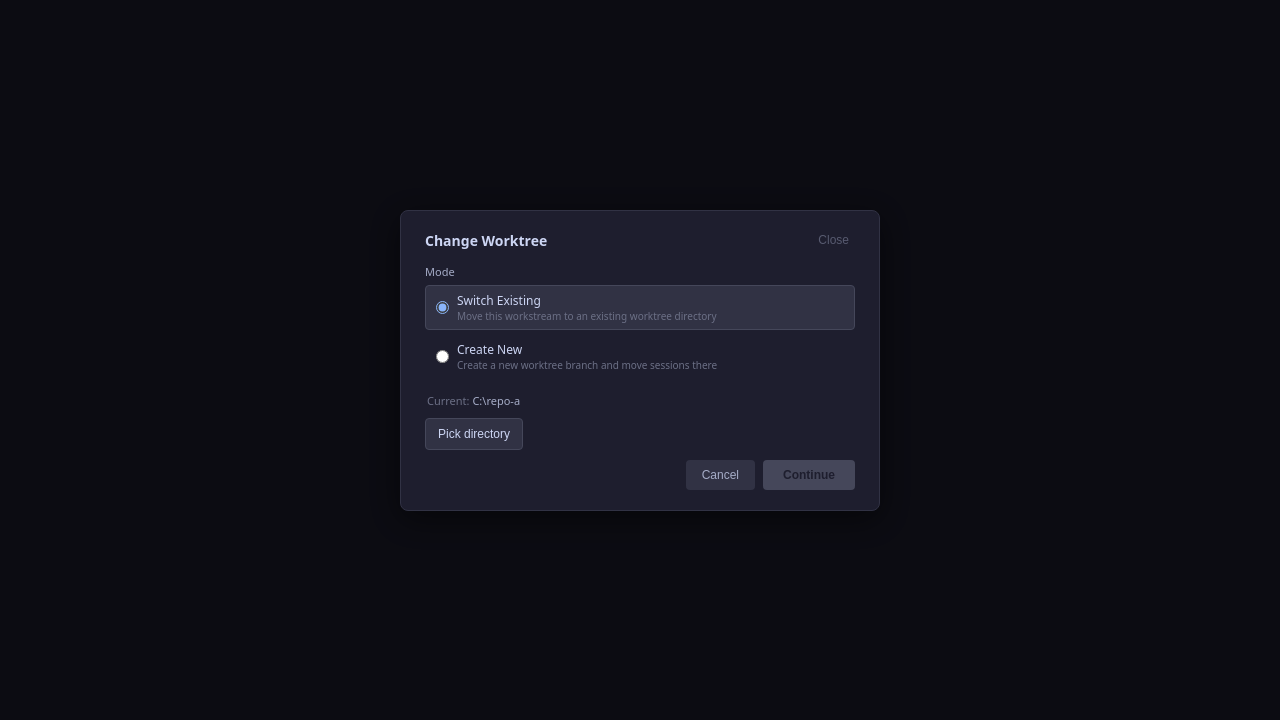
Scenario: ChangeWorktreeForm › switching to create_new shows branch name input and hides directory picker
This screenshot has width=1280, height=720.
What coordinates should you click on to do the following:
click the 2nd radio button
I would click on:
 (442, 356)
Its box is [436, 350, 449, 362].
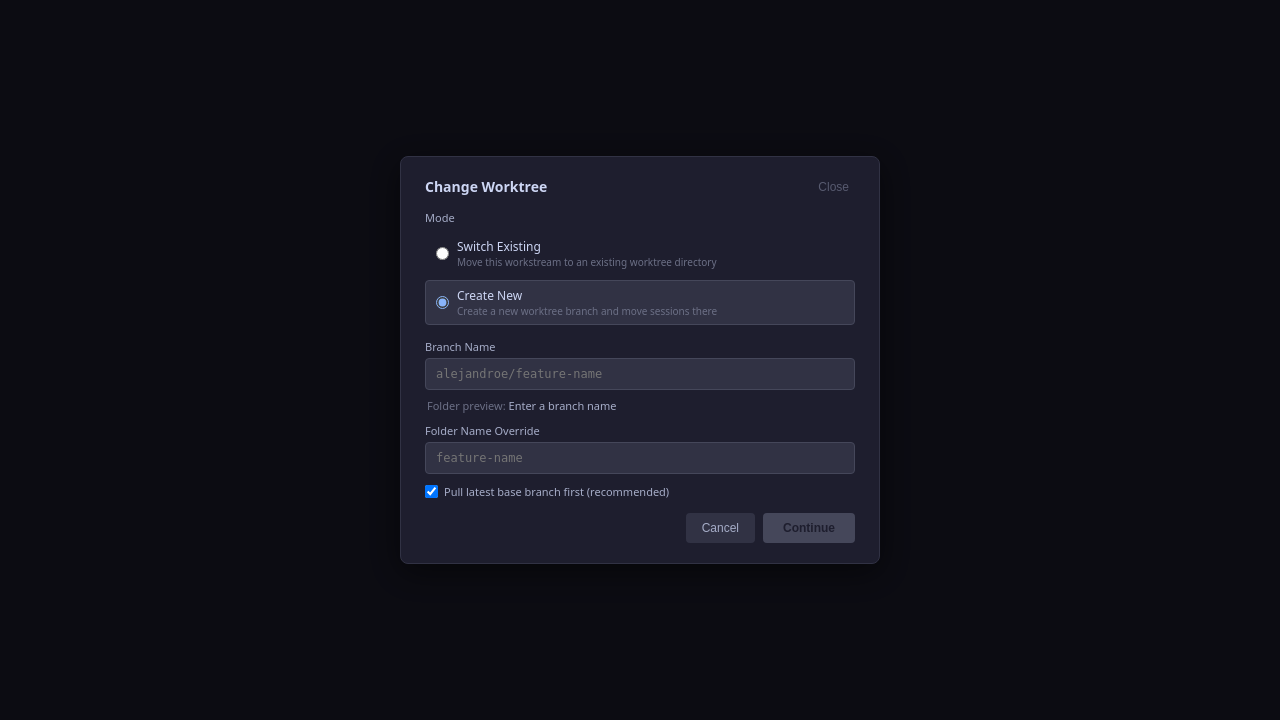
Expected: the field with test id "cwt-branch-name" is shown, [425, 358, 855, 390]
Expected: the button "Pick directory" is gone
